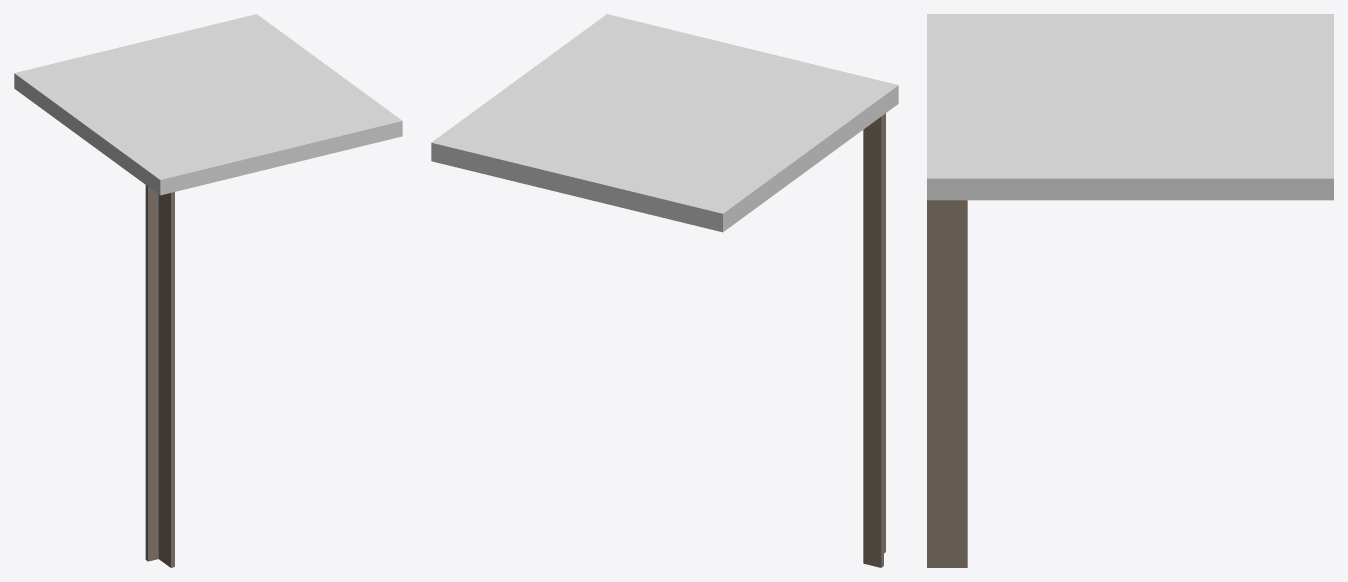
File: KitchenCorner1_C5_02R.fbx
3 views of the same model, side by side, from view 1: azimuth 30°, elevation 25°; view 2: azimuth 150°, elevation 25°; view 3: azimuth 270°, elevation 25° (orthographic). The views are drawn at different scales.
Visible parts, largest first — view 1: KitchenCorner1_C5_02R; view 2: KitchenCorner1_C5_02R; view 3: KitchenCorner1_C5_02R.
Part boxes in pixels (x1,y1,x2,y2): KitchenCorner1_C5_02R: [14, 14, 402, 567]; KitchenCorner1_C5_02R: [431, 14, 898, 567]; KitchenCorner1_C5_02R: [927, 14, 1333, 567].
Bounding box in the file's own units: 57.5 × 88.5 × 60.
